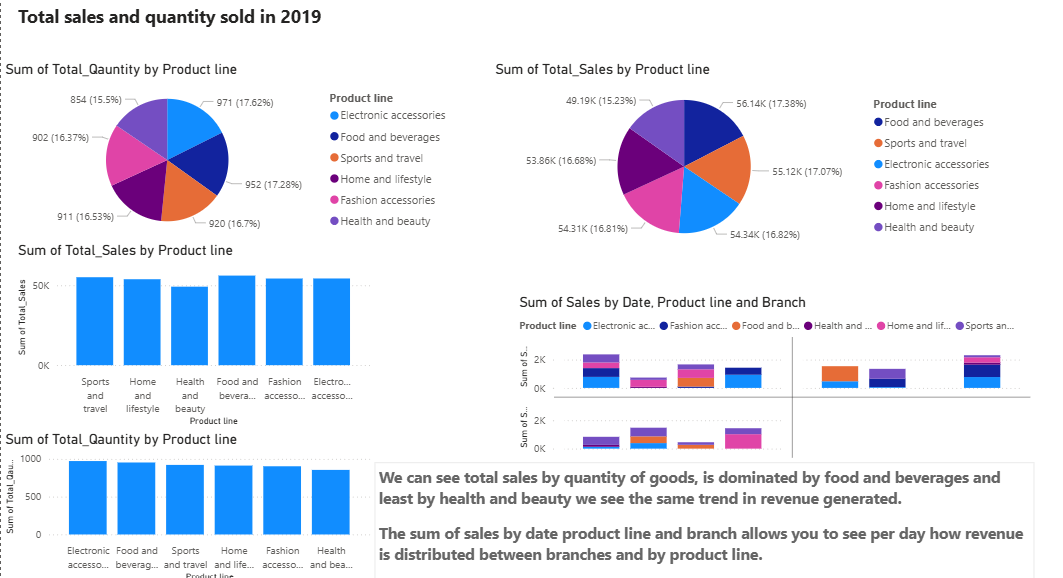

The dashboard page shown, as its layout file describes it:
{"tool":"powerbi","page":{"name":"Page 2","canvas":[1280,720],"ordinal":1},"visuals":[{"type":"pieChart","fields":{"Y":["Sum(Product sales and quantity.Total_Qauntity)"],"Category":["Product sales and quantity.Product line"]},"box":[0,88.2,549,219.6],"z":0},{"type":"clusteredColumnChart","fields":{"Y":["Sum(Product sales and quantity.Total_Sales)"],"Category":["Product sales and quantity.Product line"]},"box":[15.7,307.8,433.3,225.5],"z":1000},{"type":"pieChart","fields":{"Y":["Sum(Product sales and quantity.Total_Sales)"],"Category":["Product sales and quantity.Product line"]},"box":[588.2,88.2,613.7,235.3],"z":2000},{"type":"clusteredColumnChart","fields":{"Y":["Sum(Product sales and quantity.Total_Qauntity)"],"Category":["Product sales and quantity.Product line"]},"box":[0,533.3,449,186.3],"z":3000},{"type":"textbox","box":[449,570.6,794.1,149],"z":3001},{"type":"textbox","box":[15.7,15.7,1262.7,39.2],"z":3002},{"type":"lineStackedColumnComboChart","fields":{"Category":["SuperMarket Gender.Date"],"Series":["SuperMarket Gender.Product line"],"Y":["Sum(SuperMarket Gender.Sales)"],"Rows":["SuperMarket Gender.Branch"]},"box":[617.6,368.6,625.5,202],"z":3003}]}

Visuals, with their boxes on the page's 1280x720 design canvas (x1, y1, x2, y2). These are canvas units, not pixel positions in the 1063x578 screenshot, which may show the page scaled, cropped or inside an application window:
pieChart - Sum(Product sales and quantity.Total_Qauntity) x Product sales and quantity.Product line: (0,88,549,308)
clusteredColumnChart - Sum(Product sales and quantity.Total_Sales) x Product sales and quantity.Product line: (16,308,449,533)
pieChart - Sum(Product sales and quantity.Total_Sales) x Product sales and quantity.Product line: (588,88,1202,324)
clusteredColumnChart - Sum(Product sales and quantity.Total_Qauntity) x Product sales and quantity.Product line: (0,533,449,720)
textbox: (449,571,1243,720)
textbox: (16,16,1278,55)
lineStackedColumnComboChart - SuperMarket Gender.Date x SuperMarket Gender.Product line: (618,369,1243,571)
